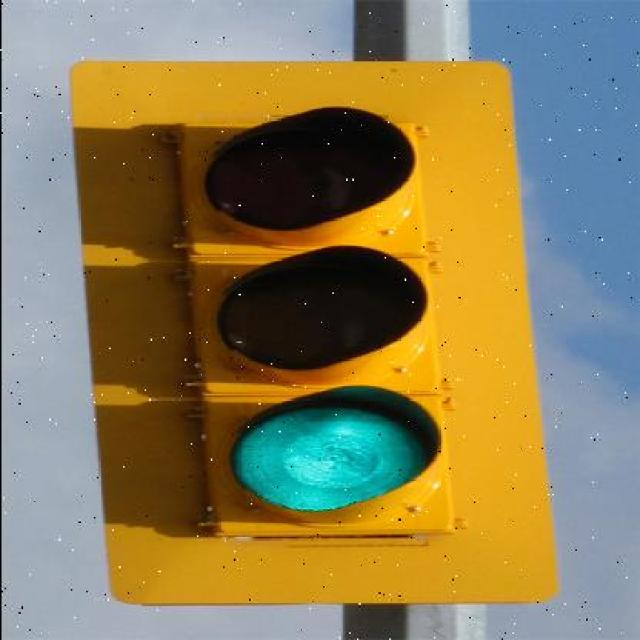green-light: (72, 61, 558, 598)
